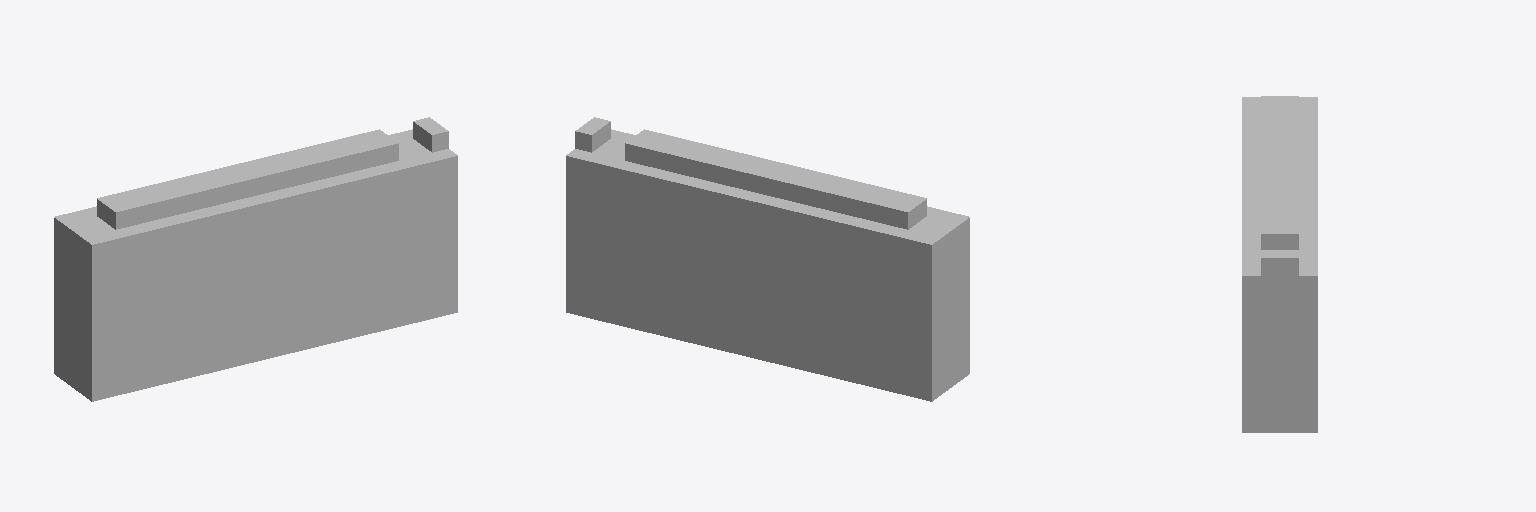
The model's file is Door Generic Left.obj.
3 renders of one model, left to right at view 1: azimuth 30°, elevation 25°; view 2: azimuth 150°, elevation 25°; view 3: azimuth 270°, elevation 25°, orthographic.
Size of the model in its own units: 22 by 10 by 4.